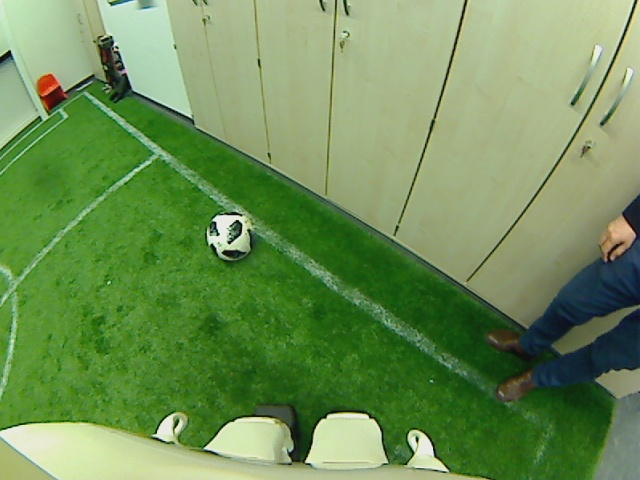ball: (205, 210, 254, 260)
